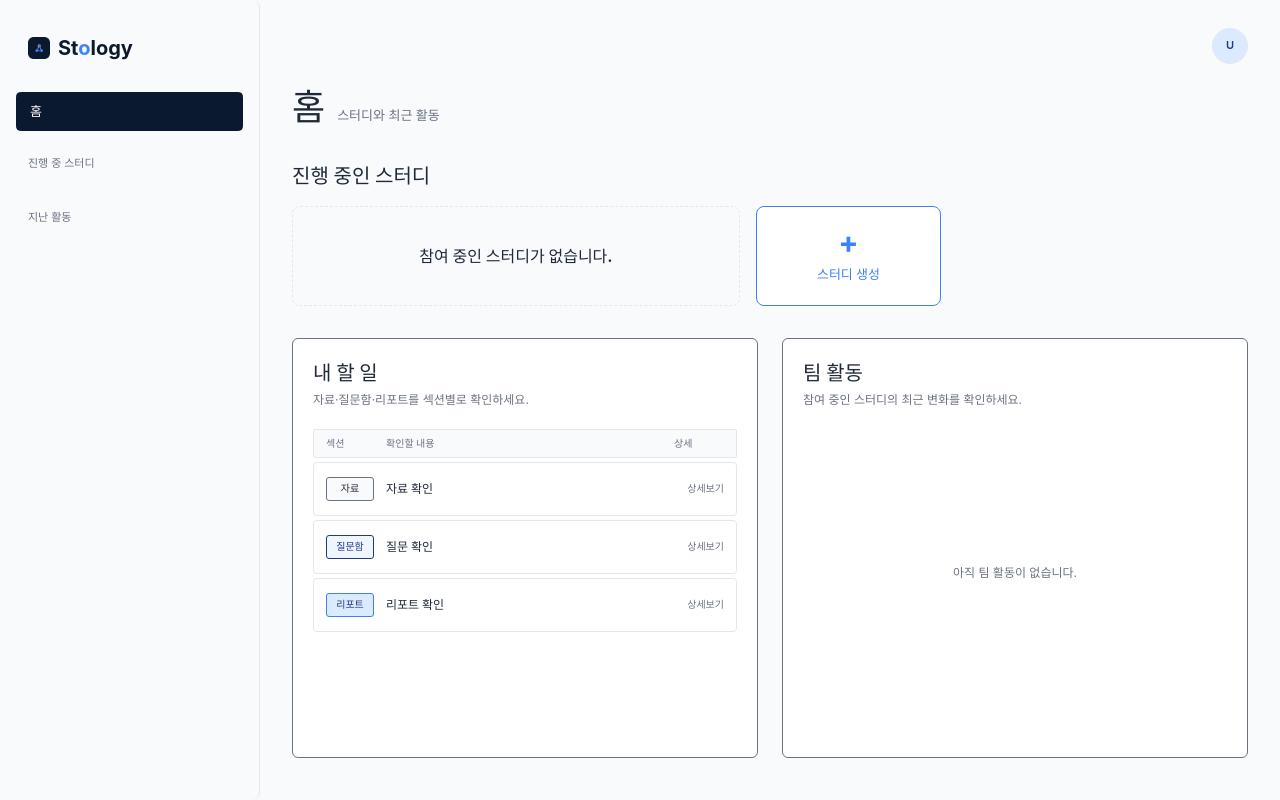
it: HomePage routing › 스터디 생성 카드를 선택하면 생성 모달을 연다
Click the button "+ 스터디 생성" at (848, 256), box [756, 206, 941, 306]
(page scrolled)
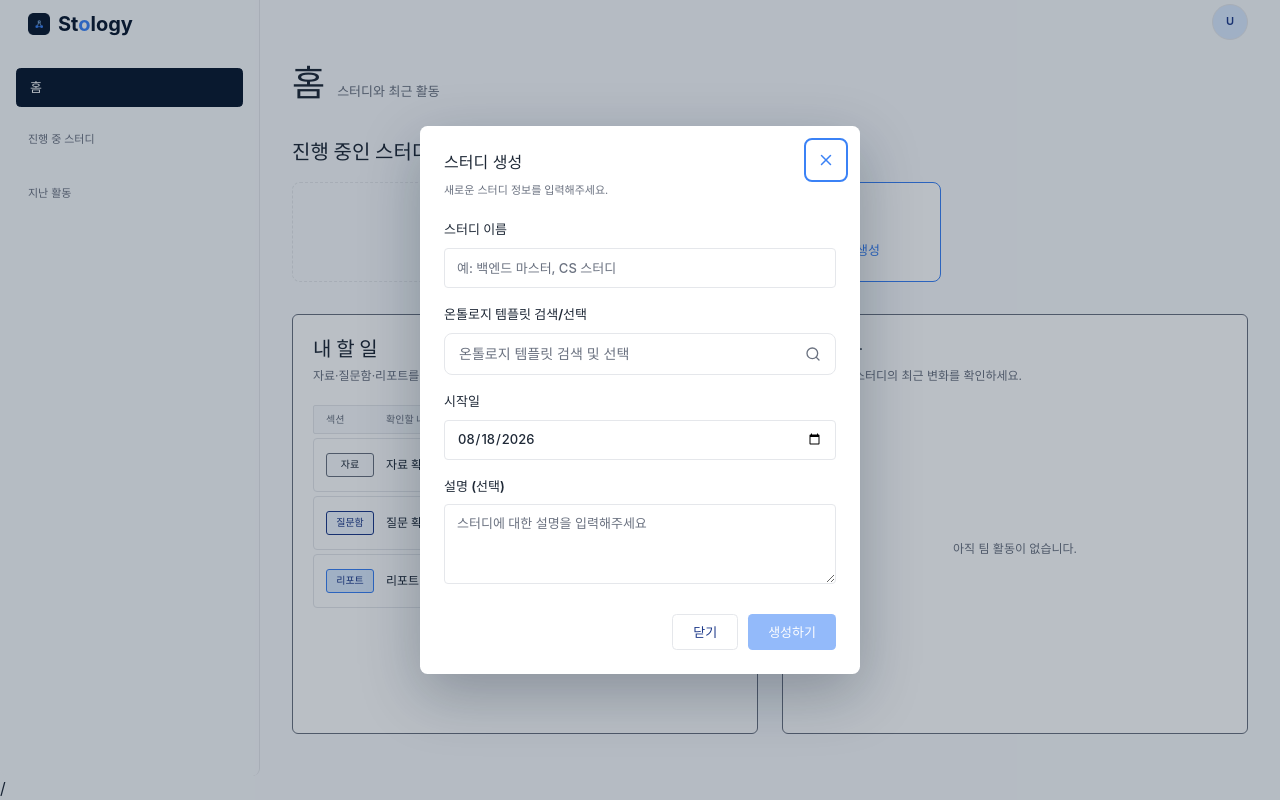
Expected: the dialog "스터디 생성" is shown, [420, 126, 860, 674]
Expected: the text "새로운 스터디 정보를 입력해주세요." is shown, [444, 182, 608, 199]
Expected: the field labelled "스터디 이름" is shown, [444, 248, 836, 288]
